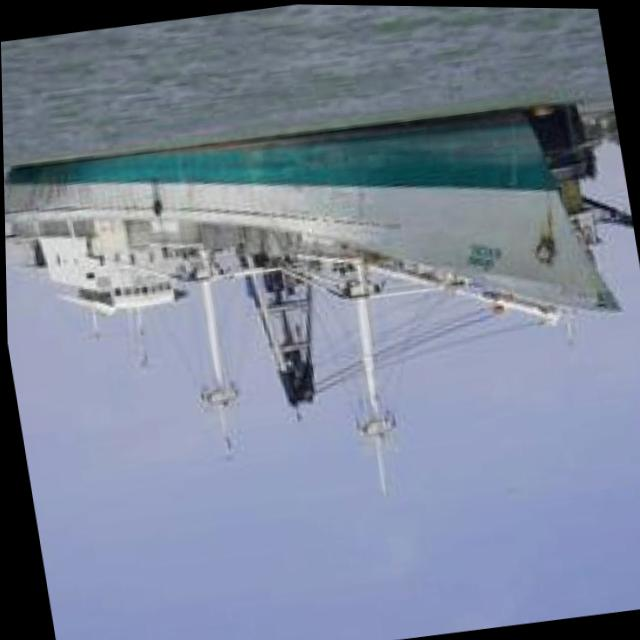ship2: (3, 112, 623, 494)
